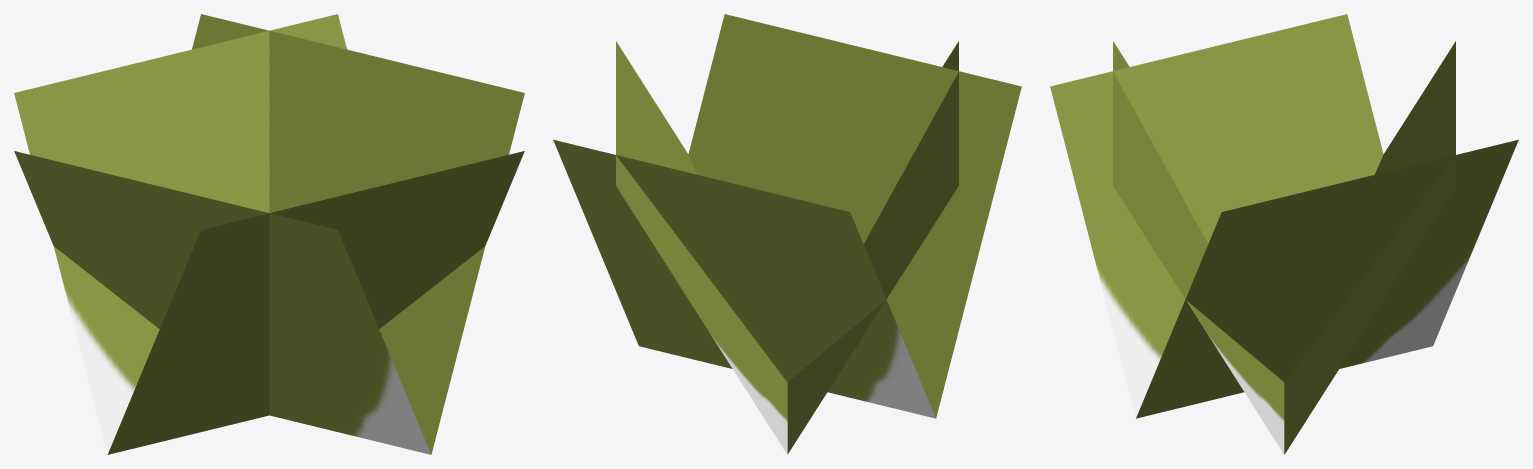
File: grass_A.fbx
3 views of the same model, side by side, from view 1: azimuth 30°, elevation 25°; view 2: azimuth 150°, elevation 25°; view 3: azimuth 270°, elevation 25° (orthographic). The views are drawn at different scales.
Visible parts, largest first — view 1: grass_A; view 2: grass_A; view 3: grass_A.
Part boxes in pixels (left/top/right/bottom): grass_A: left=14, top=14, right=524, bottom=454; grass_A: left=553, top=14, right=1021, bottom=454; grass_A: left=1050, top=14, right=1518, bottom=454.
Bounding box in the file's own units: 34.72 × 22.01 × 34.72.
